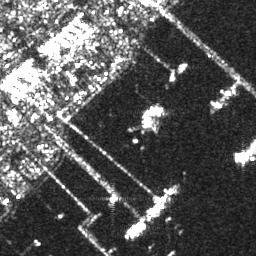ship: (130, 221, 147, 241), (220, 87, 238, 97), (177, 62, 189, 74), (168, 68, 178, 82), (210, 99, 224, 109), (33, 239, 42, 248), (57, 213, 64, 219)
